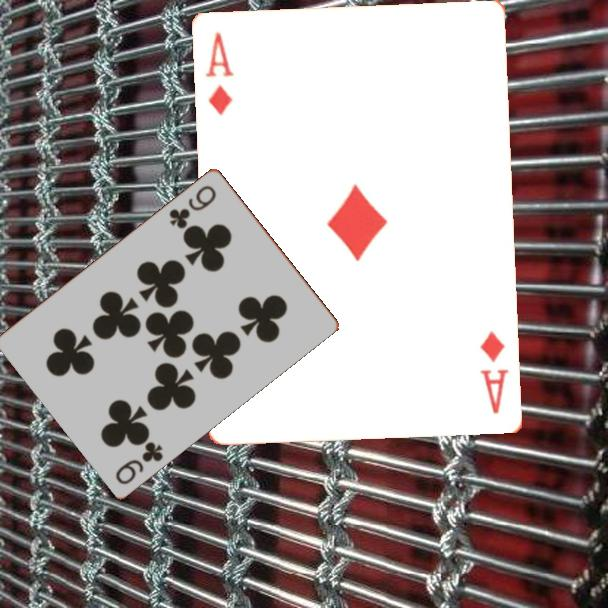c09: (112, 437, 166, 487), (166, 181, 219, 231)
d01: (203, 29, 238, 119), (477, 327, 511, 418)
